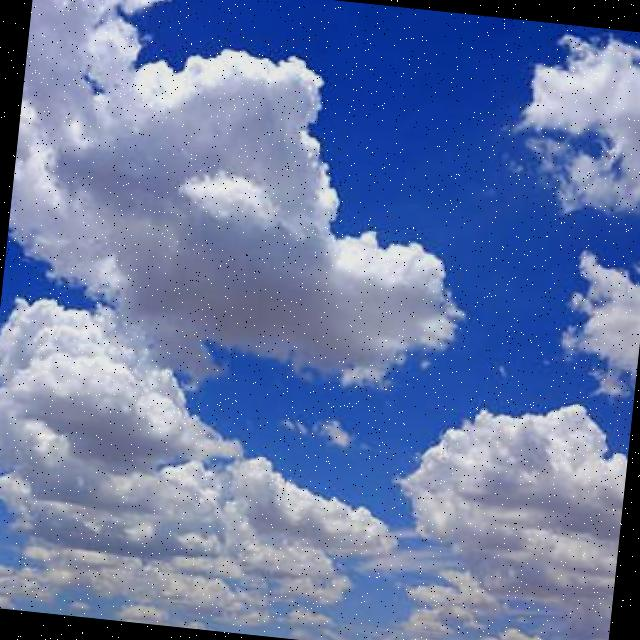Cu: (1, 1, 640, 618)
